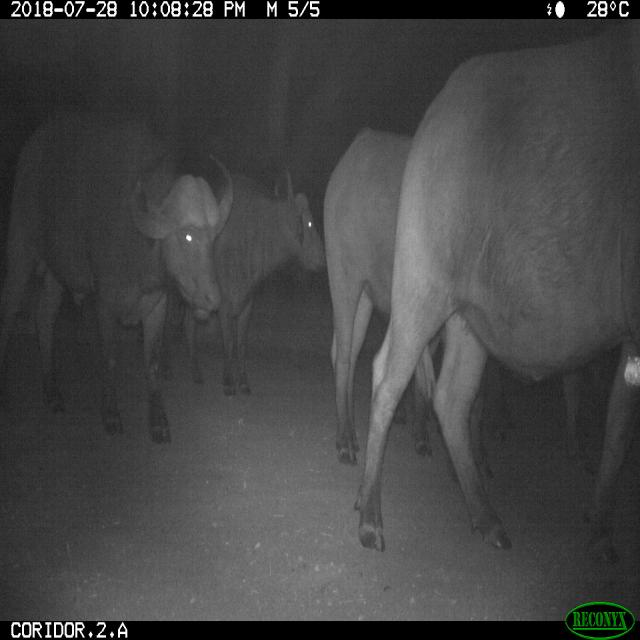buffalo: (3, 107, 326, 462)
